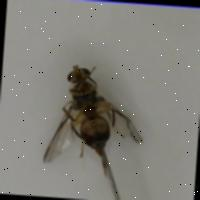Oriental-fruit-fly: (29, 50, 152, 185)
